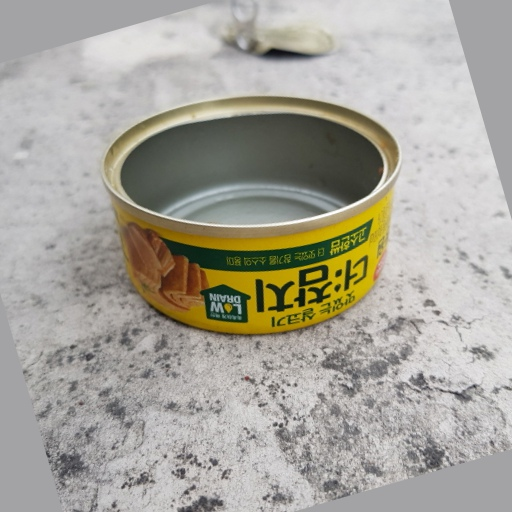Metal_1: (98, 92, 405, 332)
